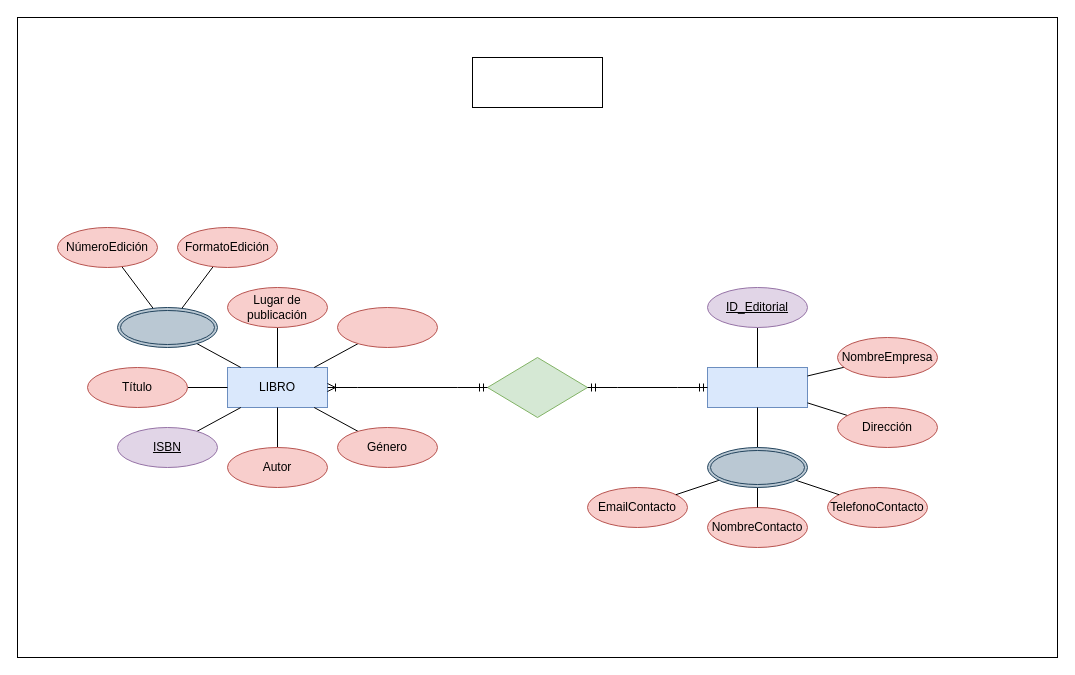
Image size: 1075x675. Some labels were removed from this diagram. Each missing label, with the box of its shape:
BIBLIOTECA: (472, 56, 602, 108)
Contacto: (706, 446, 808, 488)
Edición: (116, 306, 218, 348)
EDITORIAL: (706, 366, 808, 408)
Fecha de publicación: (336, 306, 438, 348)
Publicación: (486, 356, 588, 418)
